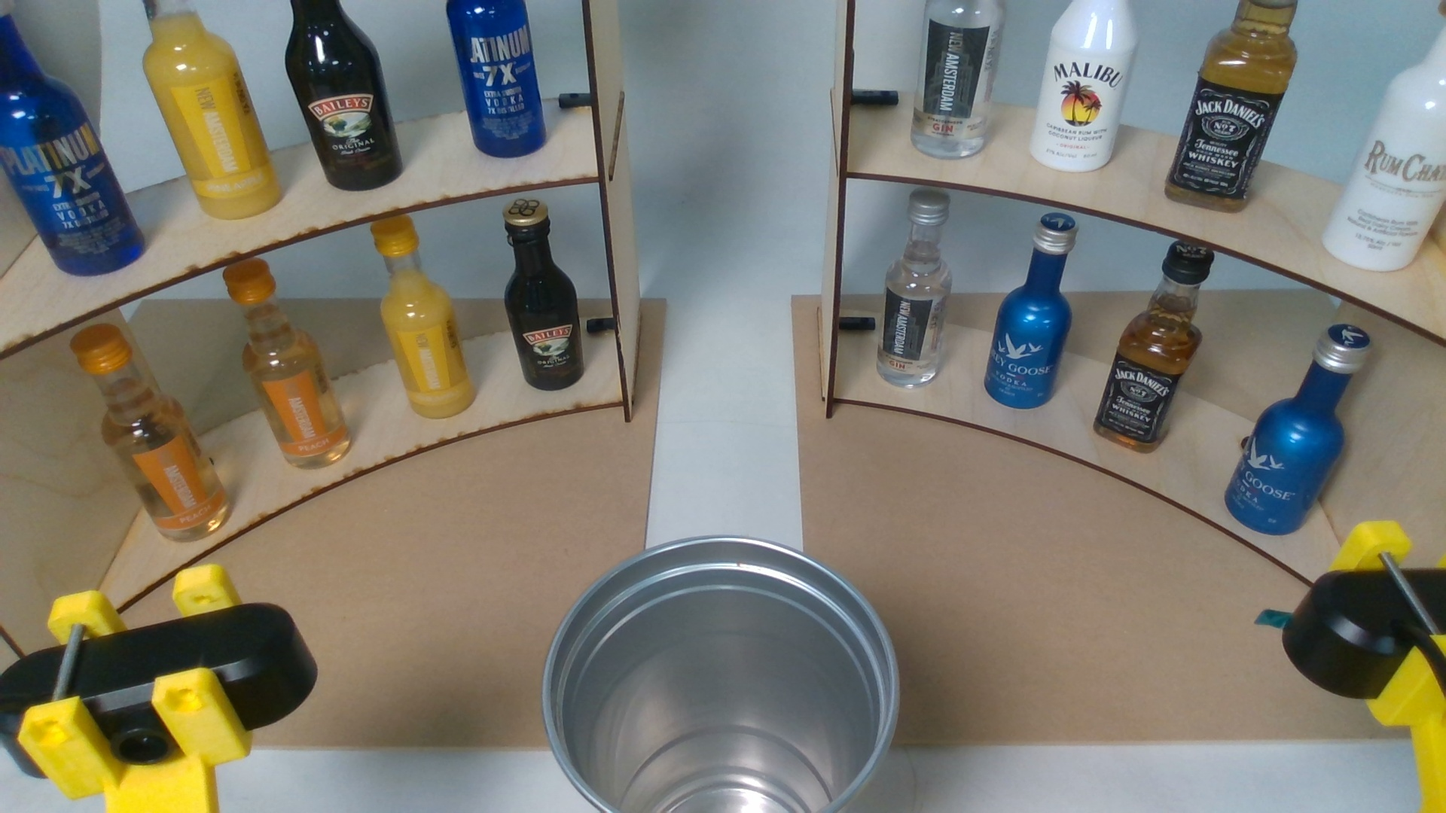coke: (282, 0, 405, 192), (504, 198, 586, 391)
gin: (908, 0, 1016, 160), (874, 186, 952, 390)
ginger_beer: (72, 324, 232, 543), (224, 258, 351, 469)
orange_juice: (141, 0, 286, 217), (373, 214, 479, 419)
tequila: (1030, 2, 1144, 172)
tonic_water: (0, 0, 146, 277), (446, 0, 548, 158)
vodka: (1224, 322, 1372, 536), (988, 213, 1080, 412)
whiskey: (1163, 0, 1302, 210), (1094, 239, 1213, 455)
